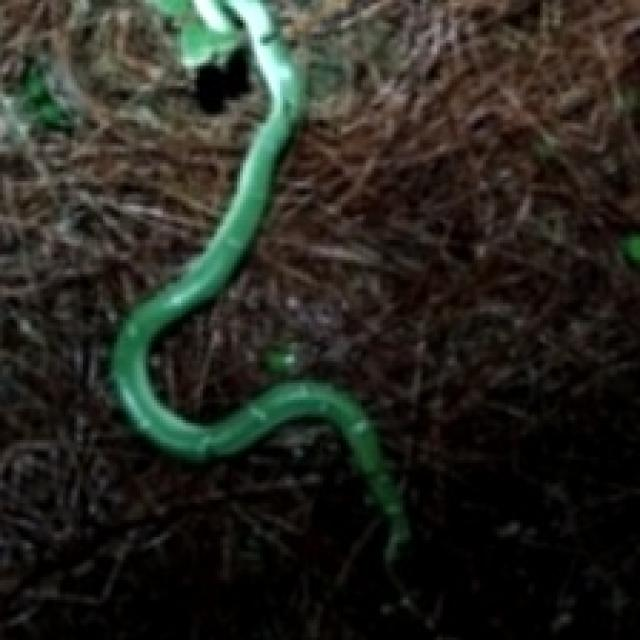north ph temple pitviper: (111, 0, 406, 560)
